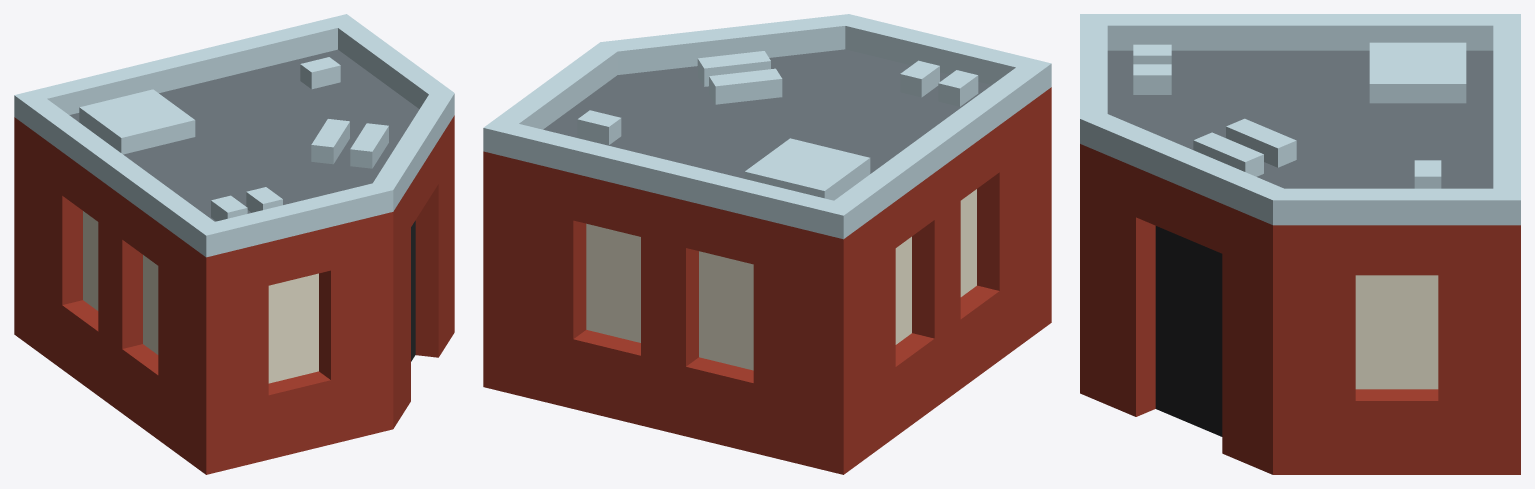
The model's file is Building_10_Extra (Red).obj.
3 renders of one model, left to right at view 1: azimuth 30°, elevation 25°; view 2: azimuth 150°, elevation 25°; view 3: azimuth 270°, elevation 25°, orthographic. The views are drawn at different scales.
Parts seen in each view (by area): view 1: Building_10_Extra_(Red); view 2: Building_10_Extra_(Red); view 3: Building_10_Extra_(Red).
Boxes of the visible parts, <box> form: Building_10_Extra_(Red): <box>14,14,454,474</box>; Building_10_Extra_(Red): <box>483,14,1051,474</box>; Building_10_Extra_(Red): <box>1080,14,1520,474</box>.
Size of the model in its own units: 1.6 by 1.1 by 1.6.
